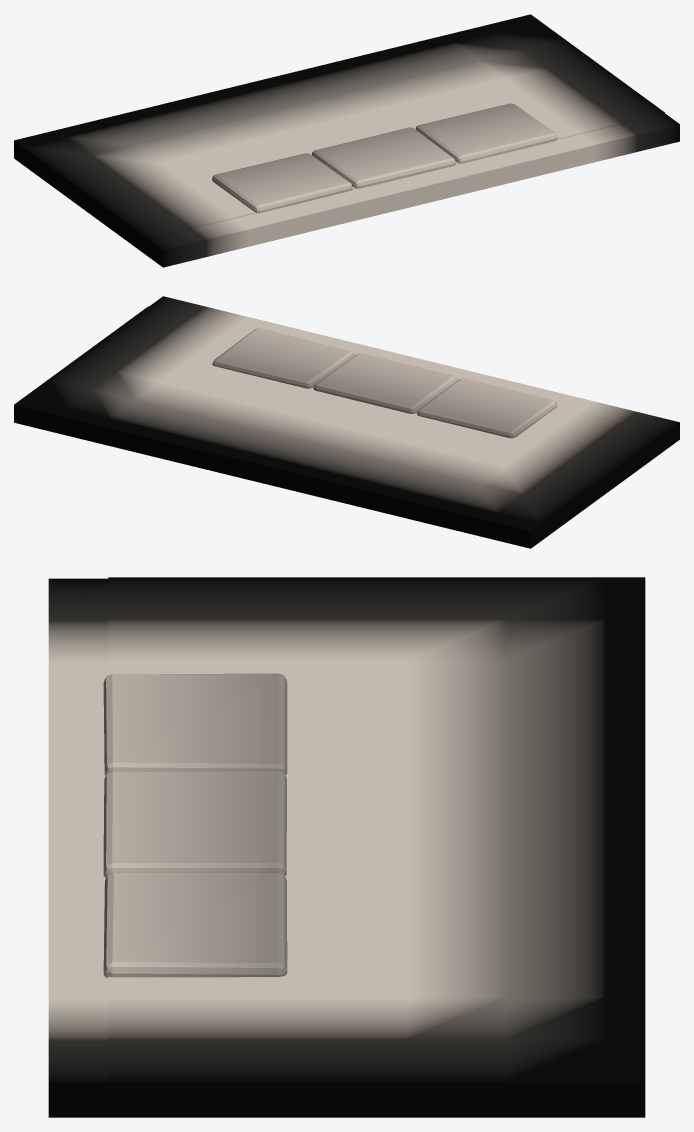
File: SM_VKI_Apron_Wide_300x150.fbx
3 renders of one model, top to bottom at view 1: azimuth 30°, elevation 25°; view 2: azimuth 150°, elevation 25°; view 3: azimuth 270°, elevation 25°, orthographic. The views are drawn at different scales.
Visible parts, largest first — view 1: SM_VKI_Apron_Wide_300x150.001; view 2: SM_VKI_Apron_Wide_300x150.001; view 3: SM_VKI_Apron_Wide_300x150.001.
Boxes of the visible parts, x1=… form: SM_VKI_Apron_Wide_300x150.001: x1=14, y1=14, x2=679, y2=267; SM_VKI_Apron_Wide_300x150.001: x1=14, y1=296, x2=679, y2=548; SM_VKI_Apron_Wide_300x150.001: x1=48, y1=577, x2=645, y2=1117.
Bounding box in the file's own units: 3 × 0.1325 × 1.5.
